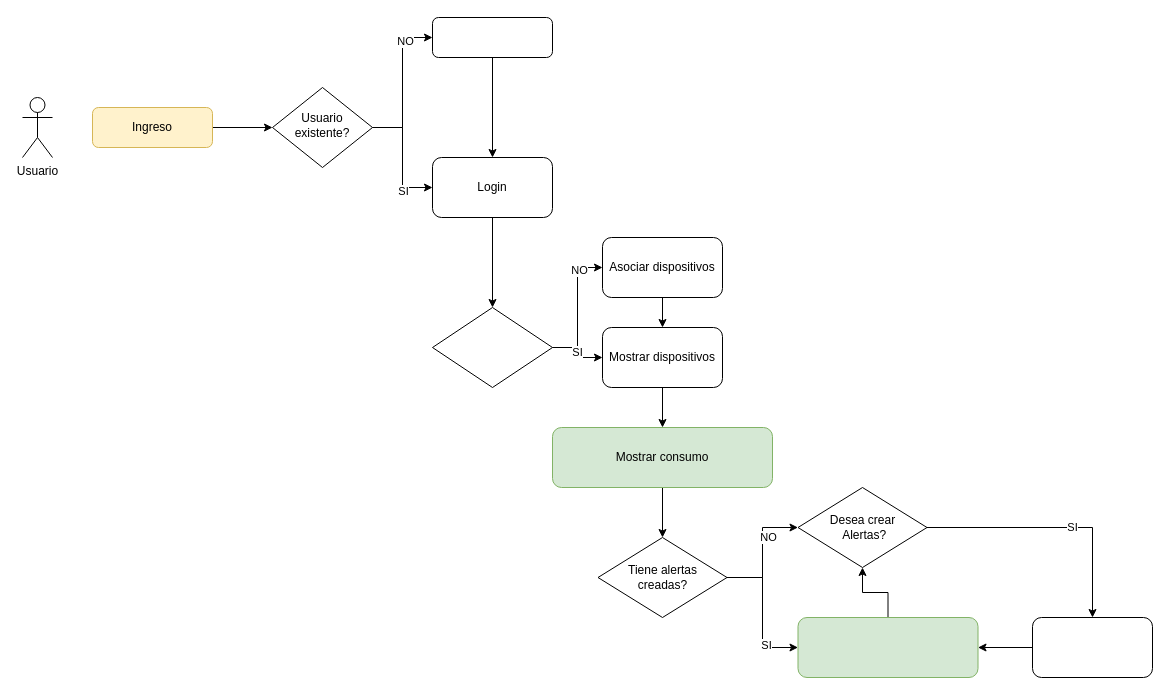
Image size: 1170x695. Some labels were removed from this diagram. Here are the shapes that lost their labels. From the top down, the centre of each, then its label:
At point 492,37: "Crear Usuario".
At point 492,347: "Tiene dispositivos asociados?".
At point 887,647: "Mostrar Alertas".
At point 1092,647: "Crear alerta".
